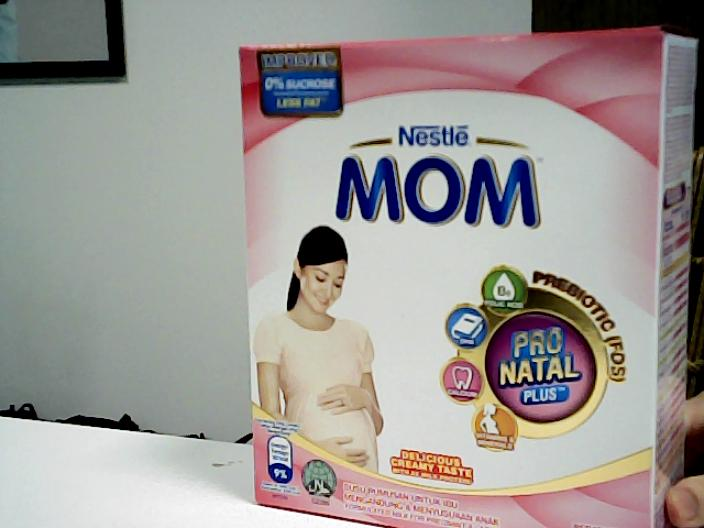MaternalMilkPowder_600-699g_Halal_NonHealthy: (243, 48, 683, 525)
